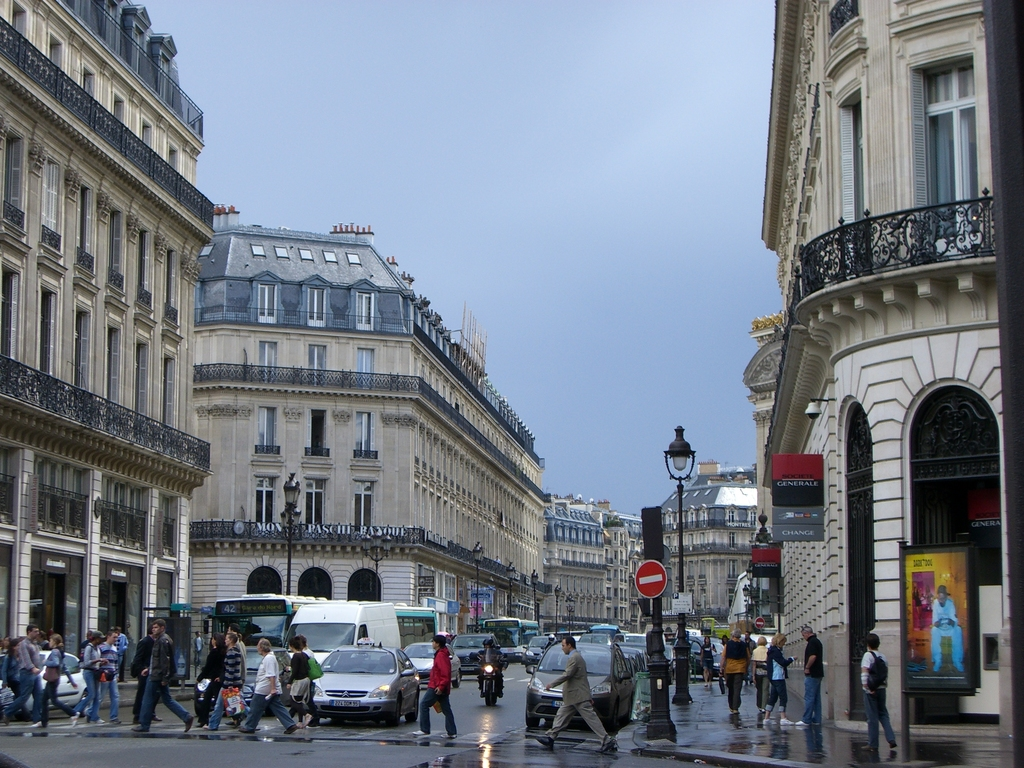Car: (529, 640, 638, 727), (313, 640, 419, 723), (0, 650, 83, 717), (396, 644, 460, 686), (453, 638, 496, 676)
